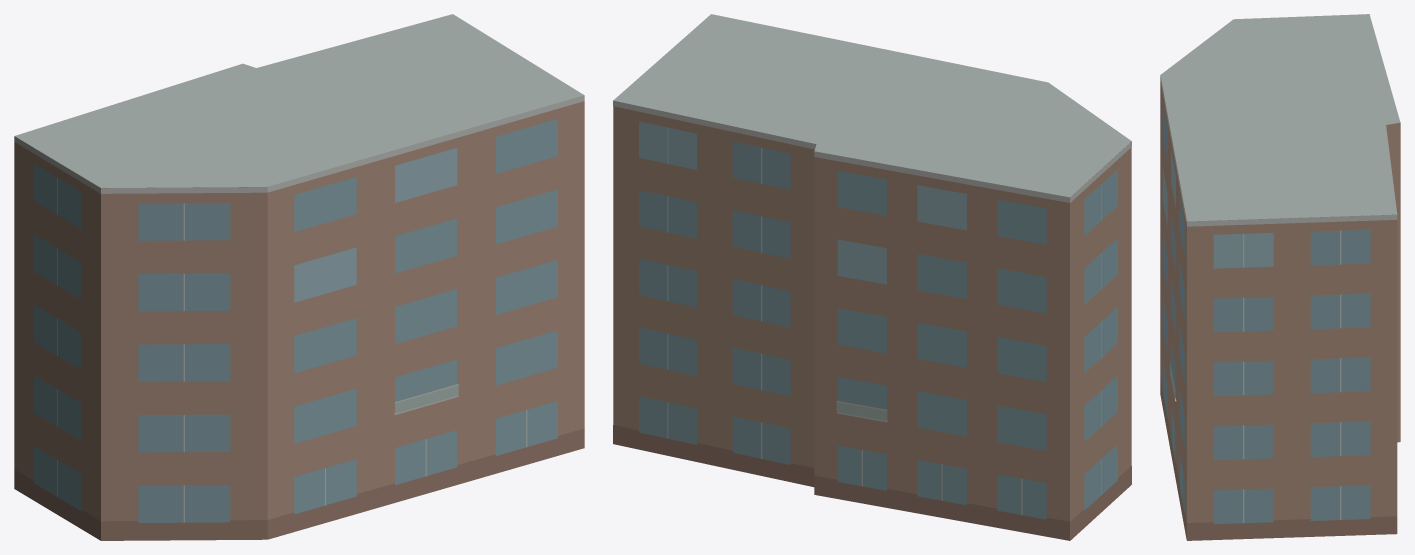
File: survey-upis-32625482.glb
3 views of the same model, side by side, from view 1: azimuth 30°, elevation 25°; view 2: azimuth 150°, elevation 25°; view 3: azimuth 270°, elevation 25° (orthographic). The views are drawn at different scales.
Visible parts, largest first — view 1: survey-upis-32625482.tmp; view 2: survey-upis-32625482.tmp; view 3: survey-upis-32625482.tmp.
Part boxes in pixels (bbox=[...]): survey-upis-32625482.tmp: bbox=[14, 14, 584, 540]; survey-upis-32625482.tmp: bbox=[613, 14, 1131, 540]; survey-upis-32625482.tmp: bbox=[1160, 14, 1400, 540].
Bounding box in the file's own units: 20.76 × 14.9 × 10.16.
